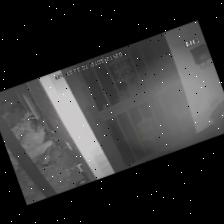person: (20, 120, 54, 167)
